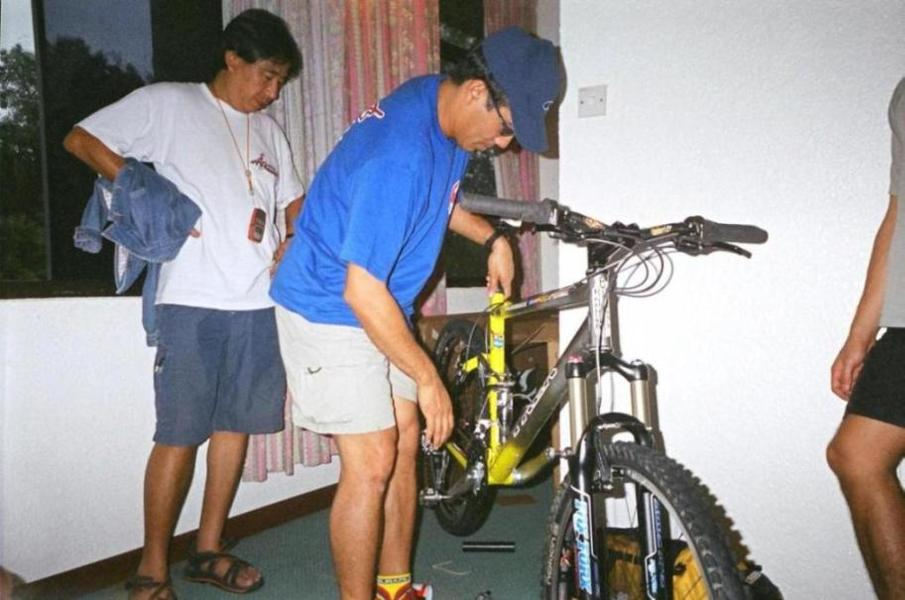person: (271, 26, 566, 600)
